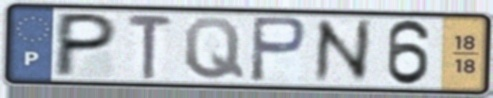6: (384, 18, 432, 88)
N: (312, 16, 374, 86)
P: (49, 10, 122, 79), (247, 14, 310, 85)
Q: (181, 15, 248, 82)
T: (125, 12, 176, 82)
